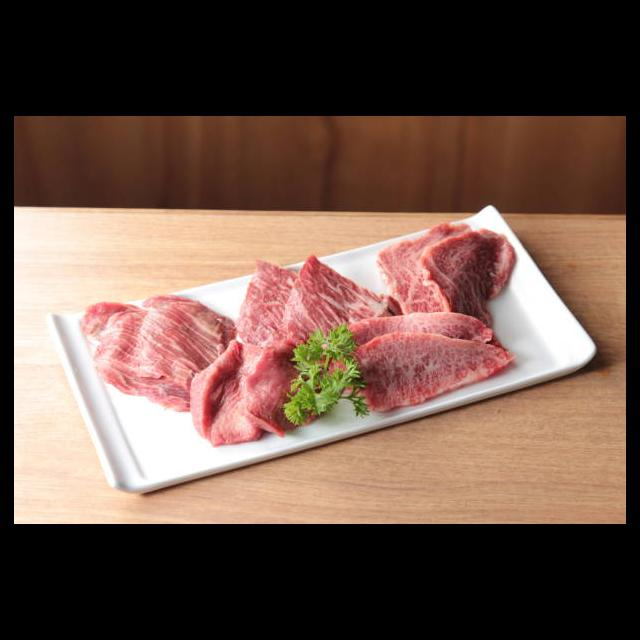beef: (337, 311, 516, 420), (78, 295, 239, 407), (186, 337, 338, 453), (381, 221, 520, 343), (241, 254, 394, 352)
